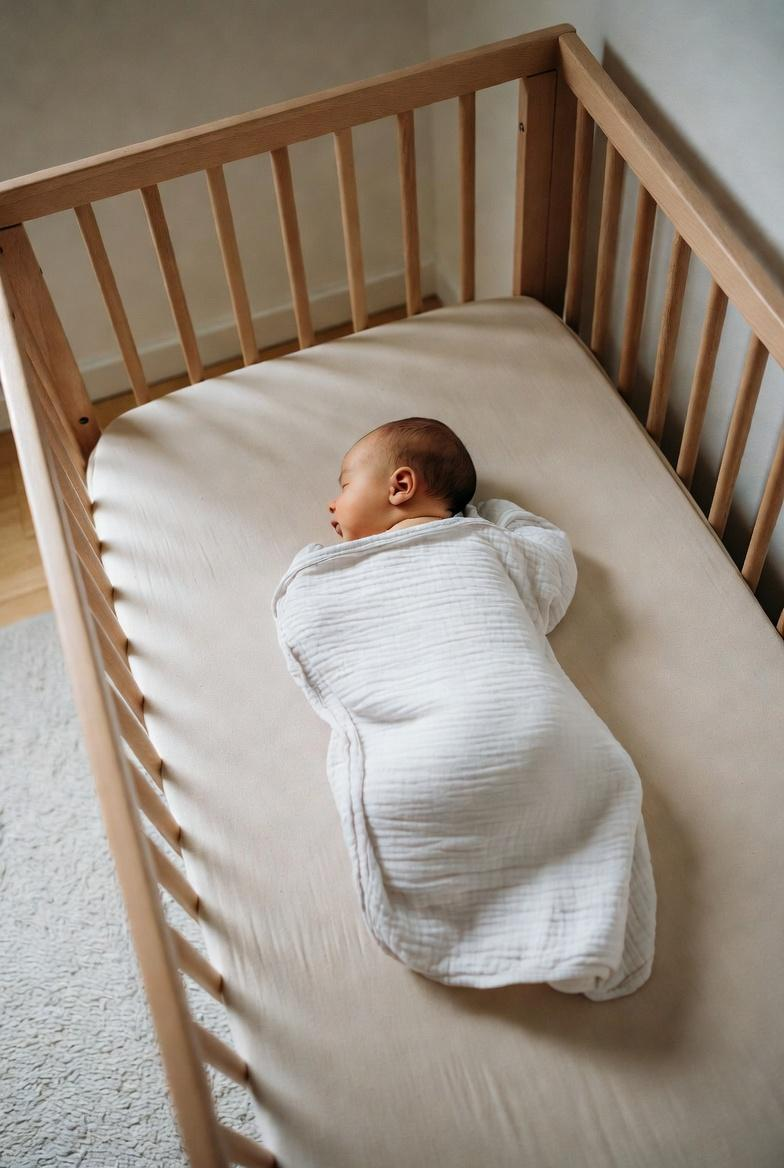baby: (250, 400, 680, 1002)
crib: (0, 26, 784, 1166)
